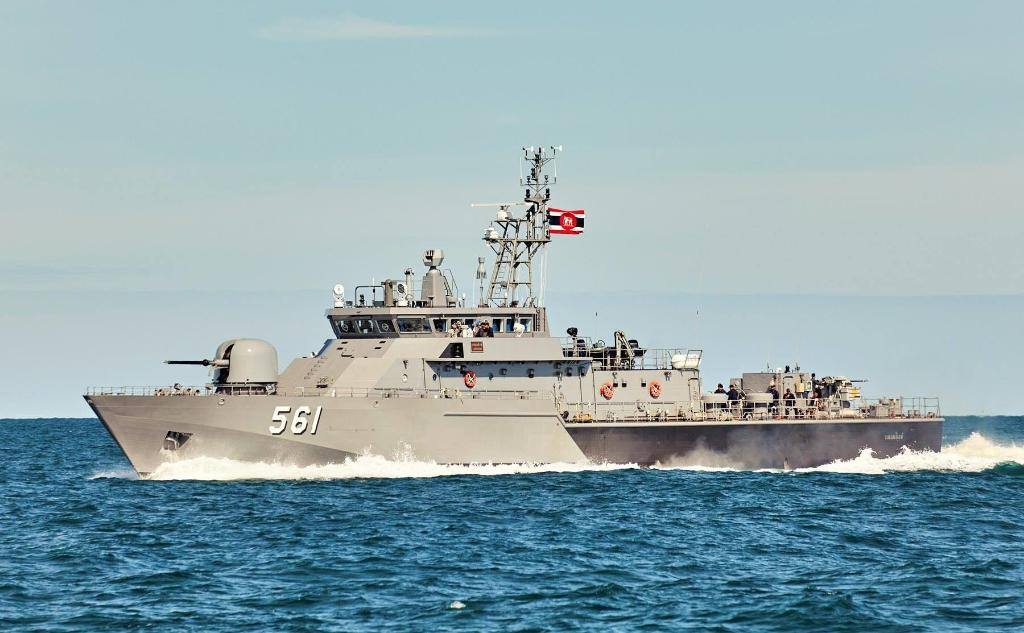Warship: (68, 183, 956, 473)
